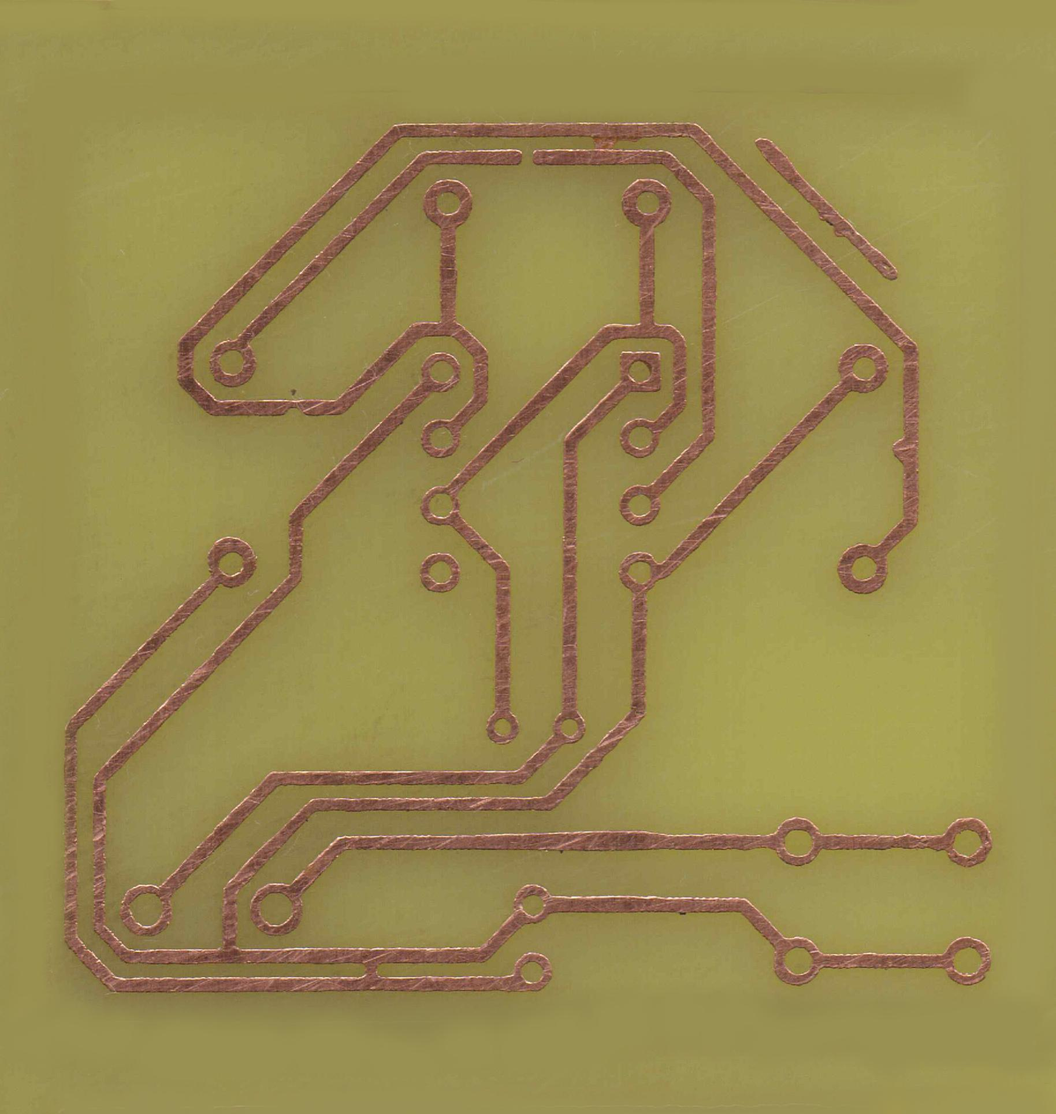mouse_bite: (277, 392, 307, 422)
open_circuit: (513, 144, 545, 170)
short: (356, 949, 392, 991), (589, 123, 621, 166)
spur: (888, 426, 928, 473)
spurious_copper: (757, 131, 903, 303)
